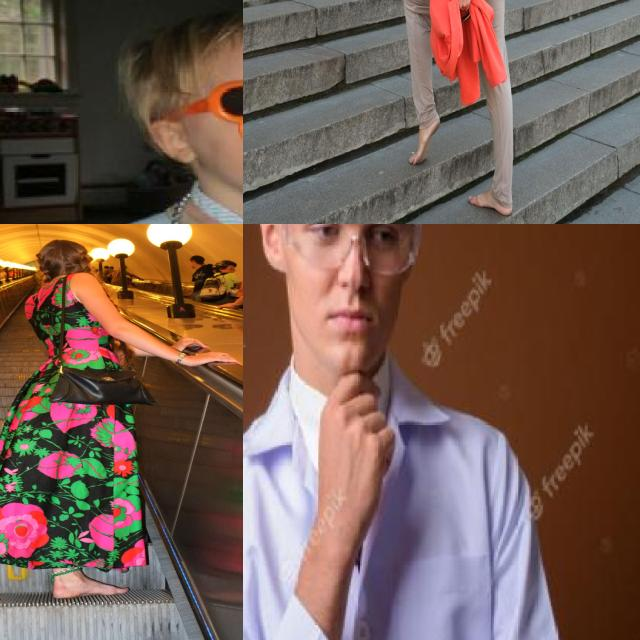Barefoots: (408, 113, 441, 165), (52, 577, 130, 598), (468, 188, 512, 216)
No_Ear-Protection: (256, 224, 291, 277)
face_nomask: (296, 224, 403, 350)
glasses: (270, 224, 419, 277), (172, 75, 243, 149)
hand_noglove: (313, 372, 402, 490)
head_nohelmet: (138, 1, 243, 68)
person: (243, 224, 563, 640), (44, 3, 243, 224)
